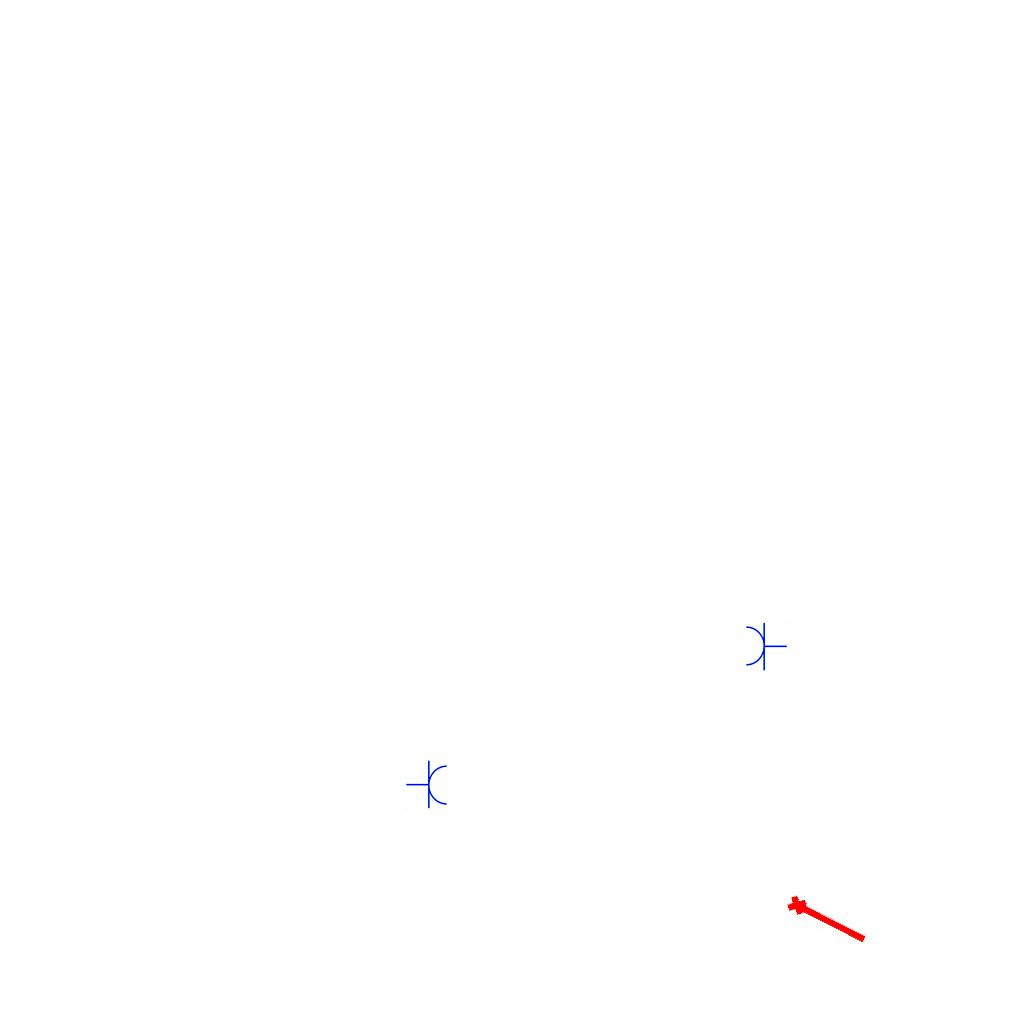ASR_Ansaugoeffnung: (783, 889, 873, 950)
Schukosteckdose_einfach: (406, 760, 449, 810), (744, 621, 787, 671)
